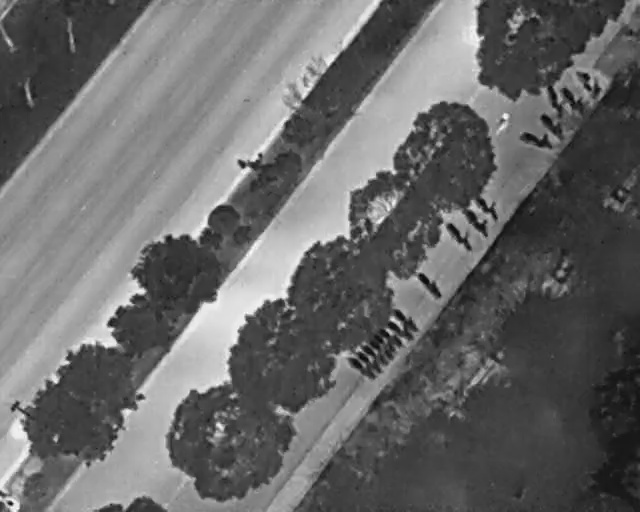Bicycle: (441, 217, 479, 256), (458, 202, 496, 241), (471, 187, 508, 225), (516, 124, 558, 154), (386, 303, 423, 337), (344, 351, 380, 385), (349, 345, 385, 379), (355, 339, 391, 373), (556, 82, 590, 118), (535, 107, 569, 142), (413, 269, 446, 302), (364, 334, 398, 365), (366, 327, 400, 358), (372, 322, 406, 353), (381, 316, 415, 344), (488, 110, 513, 139), (543, 80, 563, 115)
